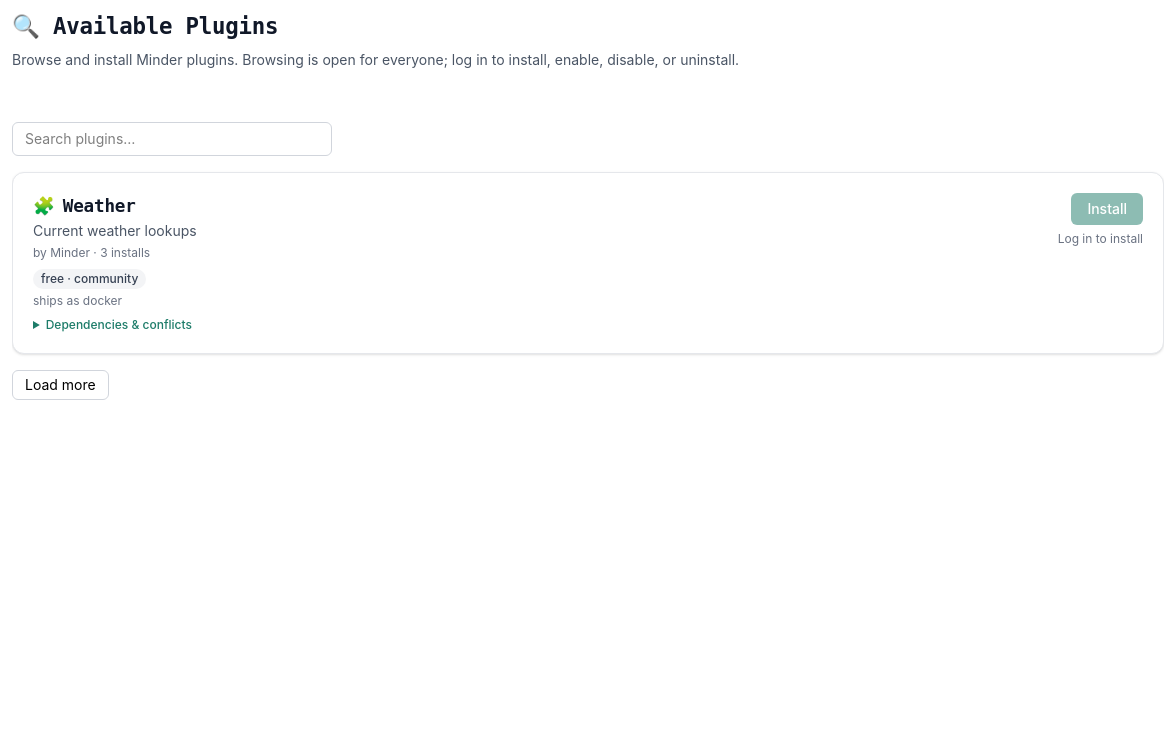
Test: AvailablePluginsPage › shows a Load more button when more results exist, and fetches the next page
Expected: the heading "🧩 Weather" is shown, [33, 196, 136, 216]
Click the button "Load more" at (60, 385), box [12, 370, 109, 400]
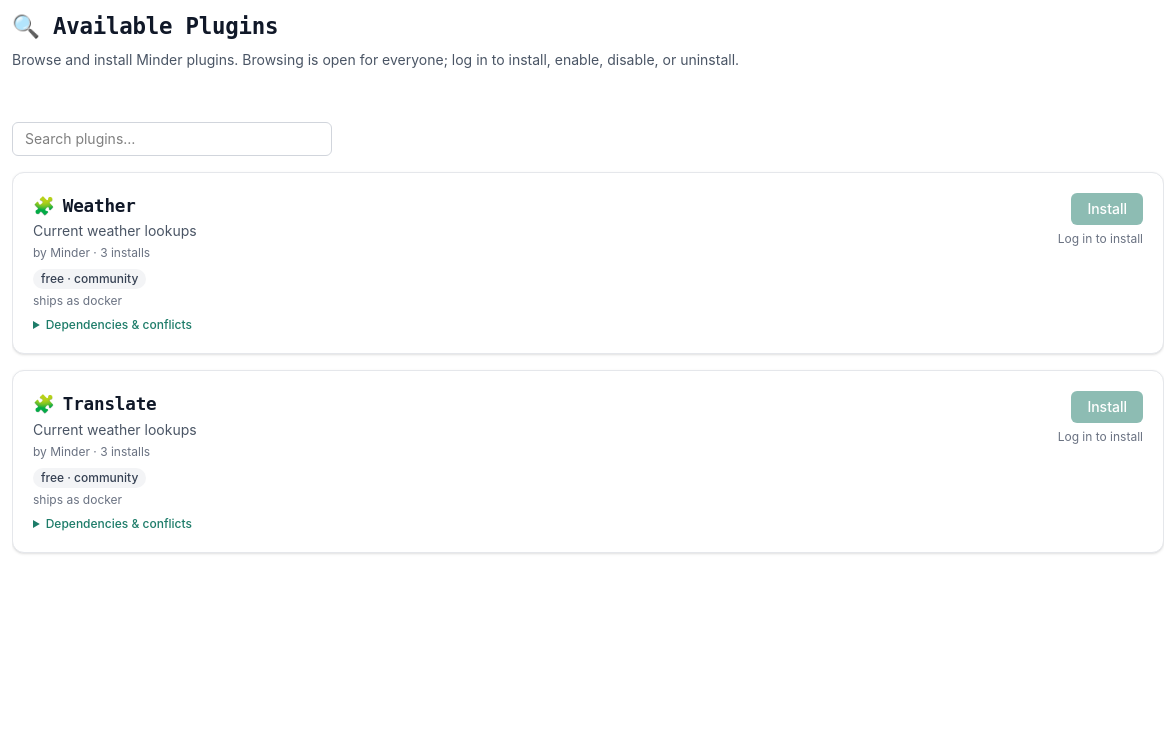
Expected: the heading "🧩 Translate" is shown, [33, 394, 156, 414]
